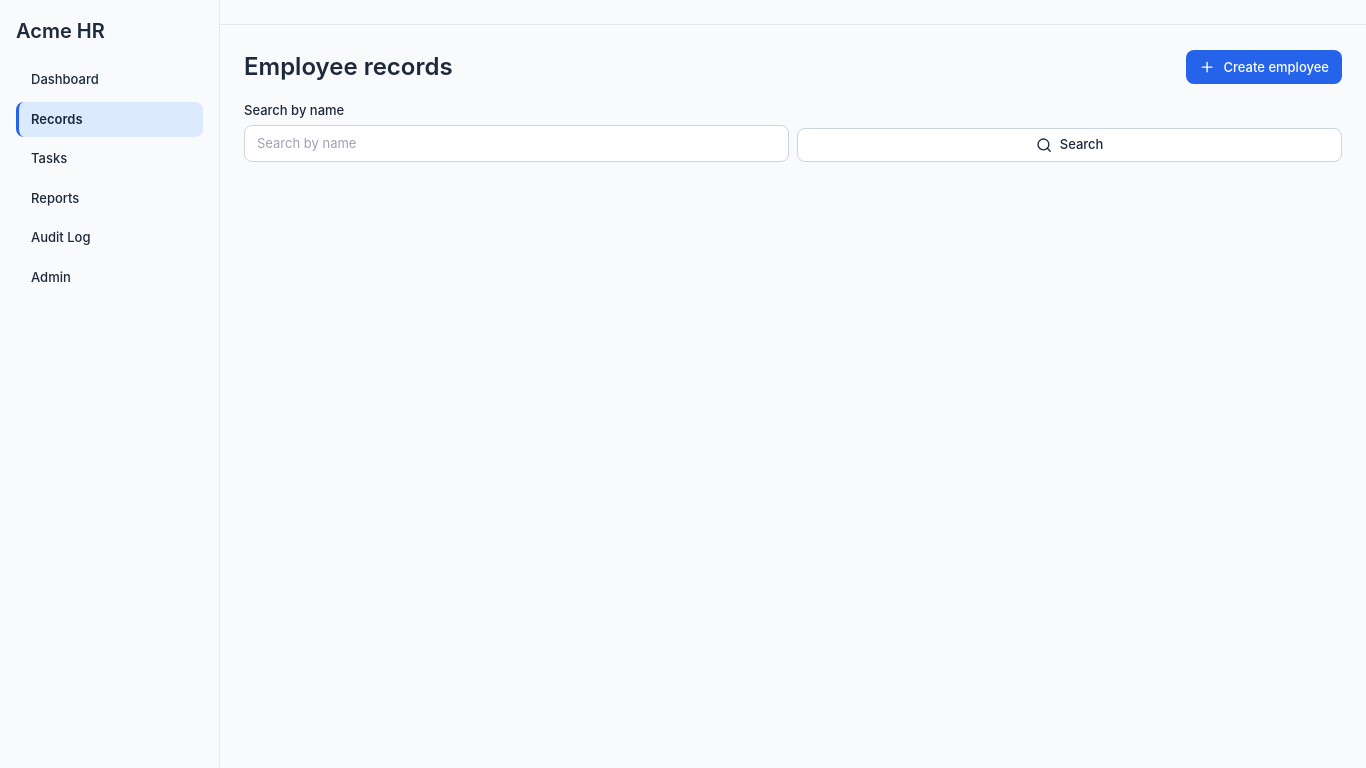
Test: EmployeesPage › shows the empty state and clears the search
Type "Zara" into the search field labelled "Search by name" at (516, 143), box 244,124 -> 789,162
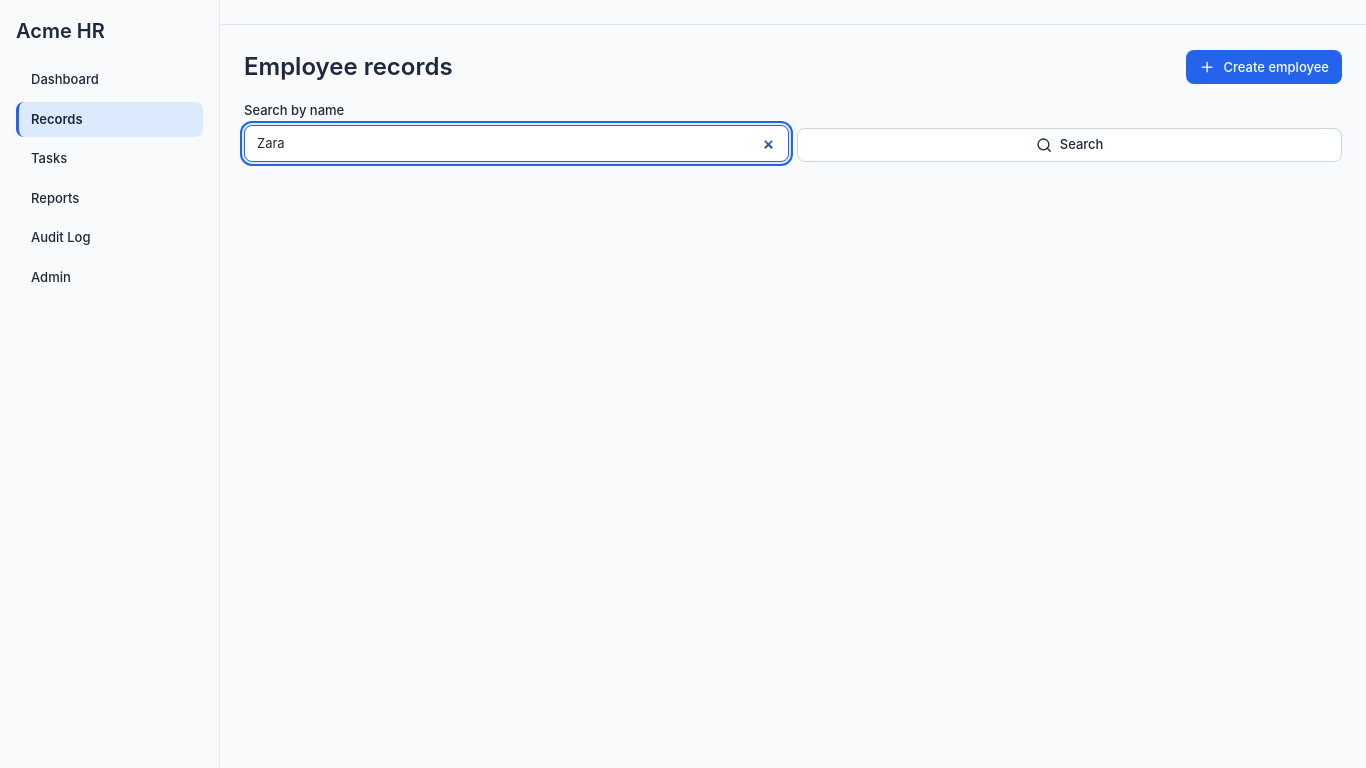
Click the button "Search" at (1070, 145), box 797,128 -> 1342,162
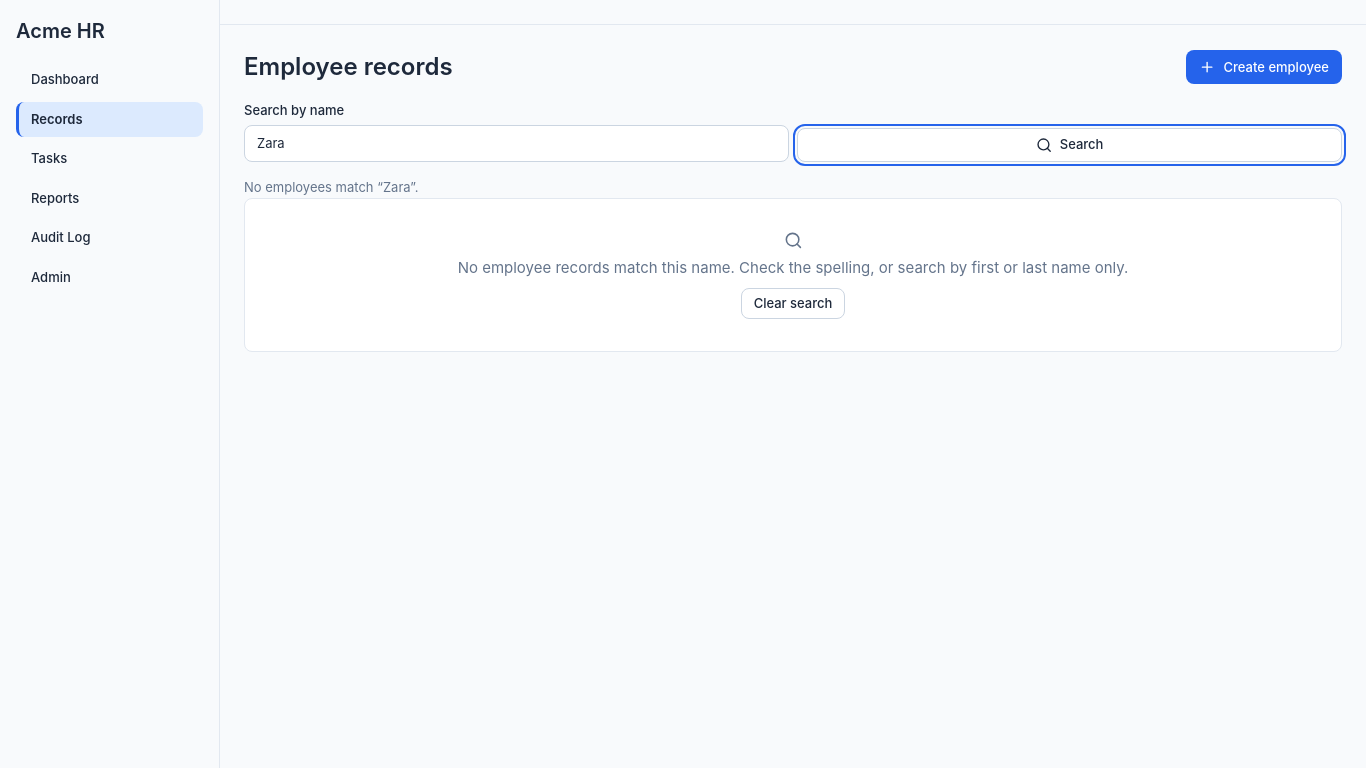
Expected: the text "No employee records match this name" is shown, 458,258 -> 1128,277
Click the button "Clear search" at (793, 303), box 741,288 -> 845,319
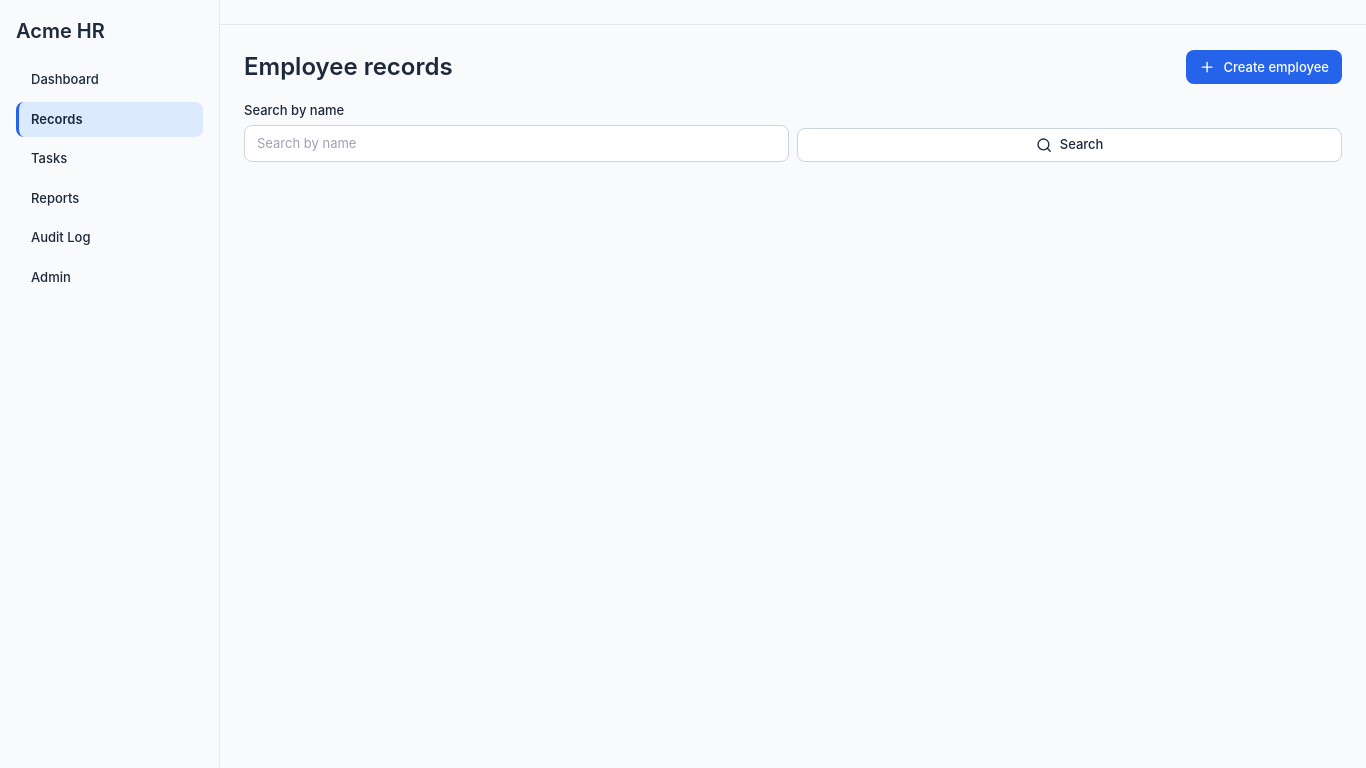
Expected: the search field labelled "Search by name" is empty, 244,124 -> 789,162
